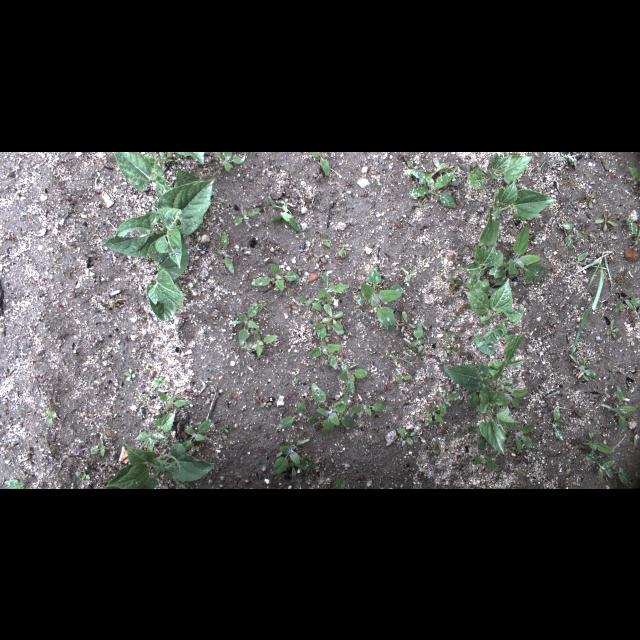crop: (99, 176, 220, 324), (443, 334, 541, 471), (466, 171, 558, 285), (102, 441, 216, 487), (462, 278, 526, 356), (112, 152, 208, 202), (464, 152, 534, 190), (130, 408, 177, 452), (179, 152, 207, 162)
weed: (275, 381, 389, 433), (562, 250, 612, 360), (354, 266, 406, 334), (582, 429, 632, 485), (407, 158, 457, 206), (266, 438, 314, 478), (306, 322, 344, 372), (247, 262, 303, 292), (268, 193, 304, 235), (316, 268, 350, 308), (424, 390, 460, 426), (240, 330, 280, 360), (613, 384, 637, 431), (236, 302, 260, 348), (334, 356, 370, 386), (182, 418, 210, 454), (156, 388, 194, 412), (319, 300, 347, 330), (561, 221, 589, 251), (214, 230, 234, 270), (545, 404, 567, 440), (574, 353, 598, 381), (233, 206, 263, 228), (211, 152, 247, 170), (294, 291, 326, 311), (310, 151, 334, 177), (592, 206, 618, 230), (410, 320, 426, 356), (556, 152, 584, 168), (401, 308, 419, 332), (615, 290, 639, 308), (626, 218, 640, 248), (395, 428, 415, 447), (604, 317, 620, 339), (124, 365, 140, 381), (153, 374, 169, 386), (160, 151, 174, 161)
